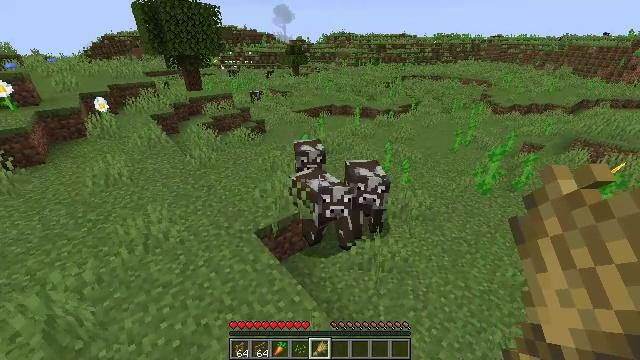cow: (294, 172, 351, 249), (351, 159, 390, 230), (295, 139, 325, 172)
